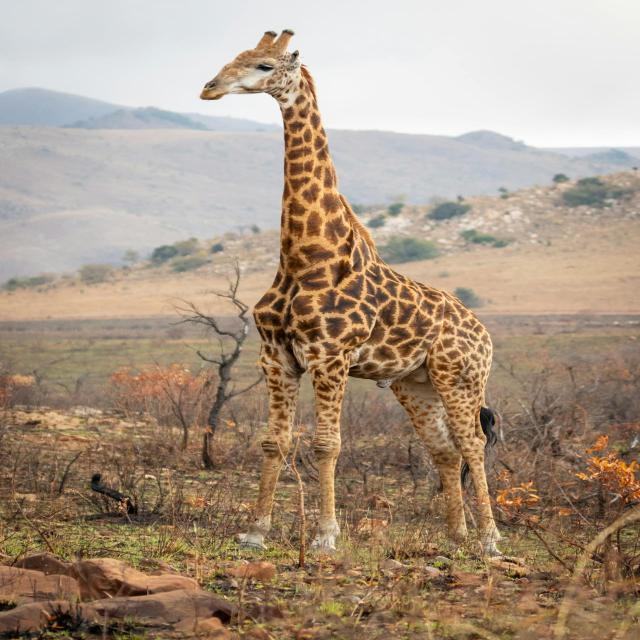Giraffe: (200, 26, 500, 558)
